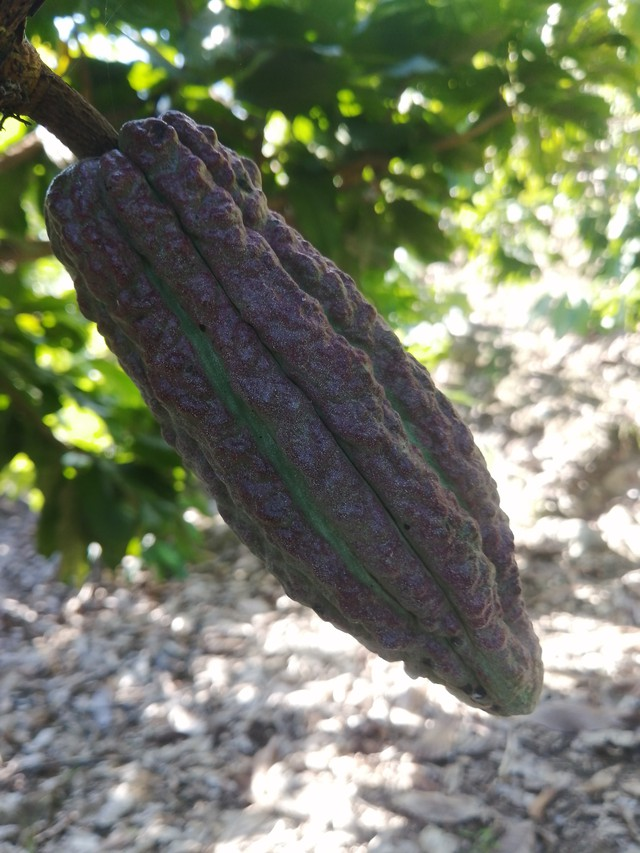Health: (32, 92, 559, 738)
